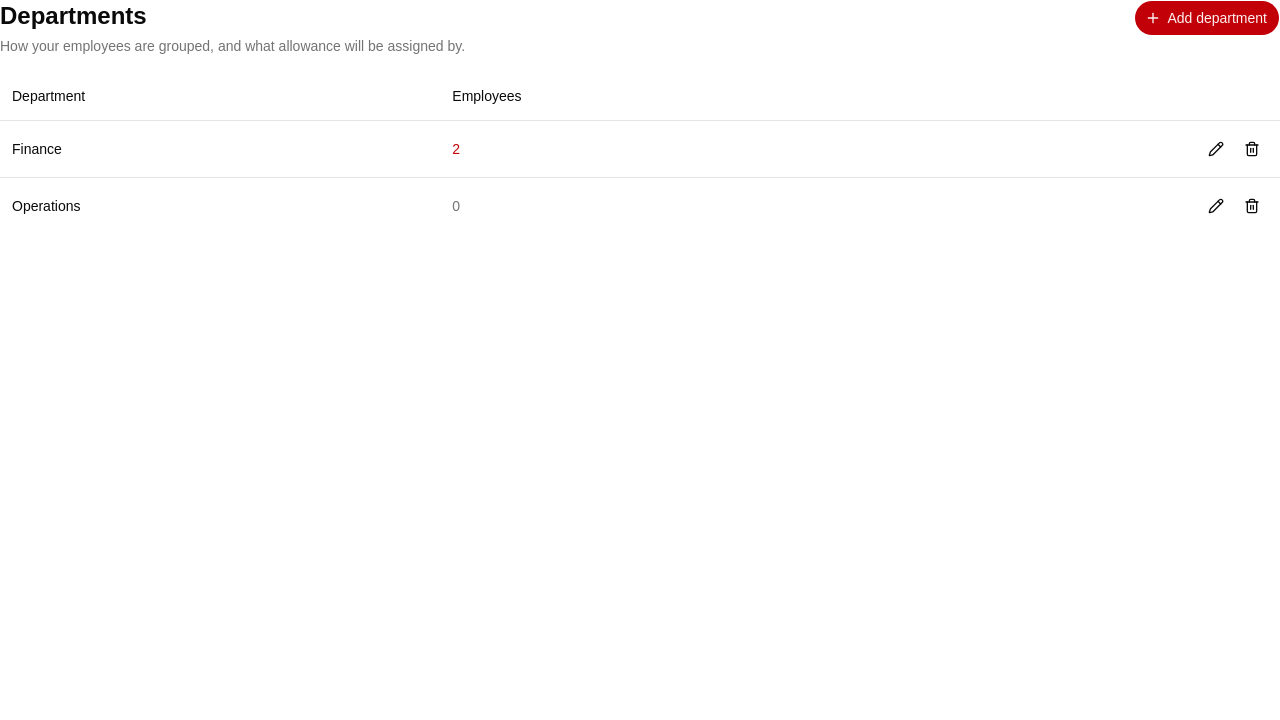
it: DepartmentsPage › explains why a department with employees can't be deleted, instead of offering it
Expected: the text "Finance" is shown, [0,120,440,177]
Click the button named "Delete Finance". click: (1252, 148)
box: [1236,132,1268,164]
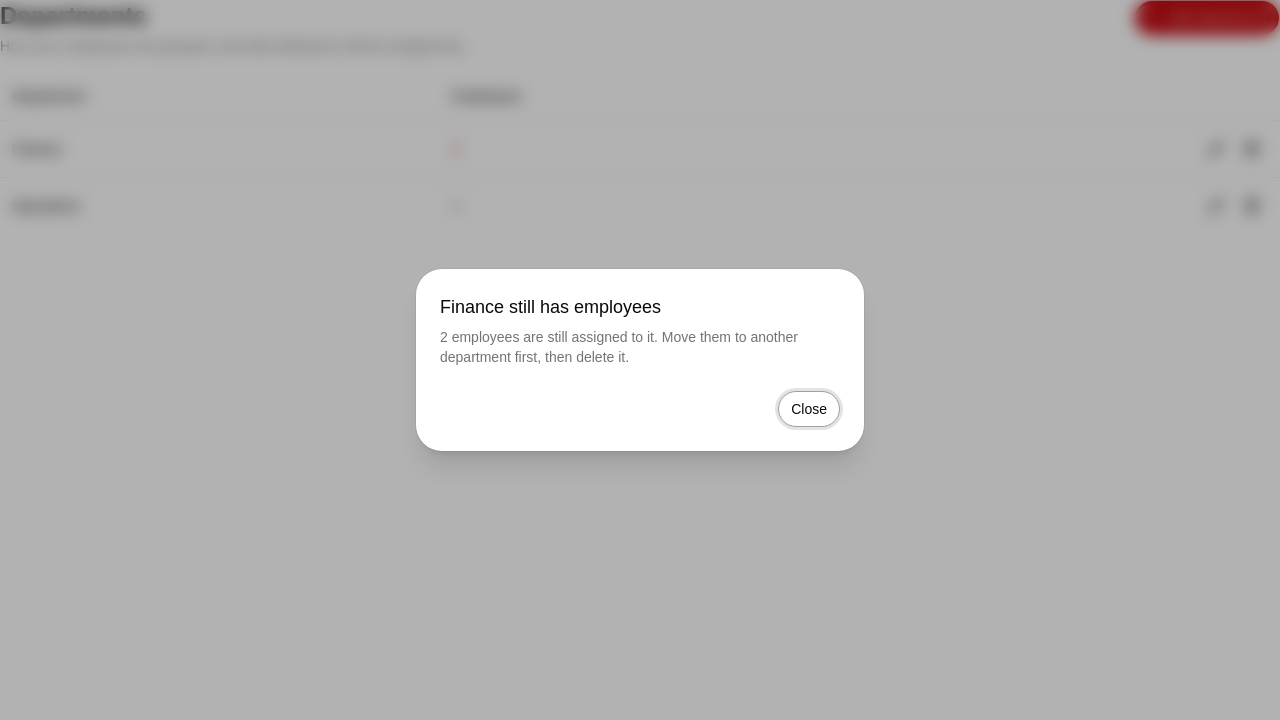
Expected: the heading "Finance still has employees" is shown, [440,293,661,321]
Expected: the text "2 employees are still assigned to it" is shown, [440,329,798,365]
